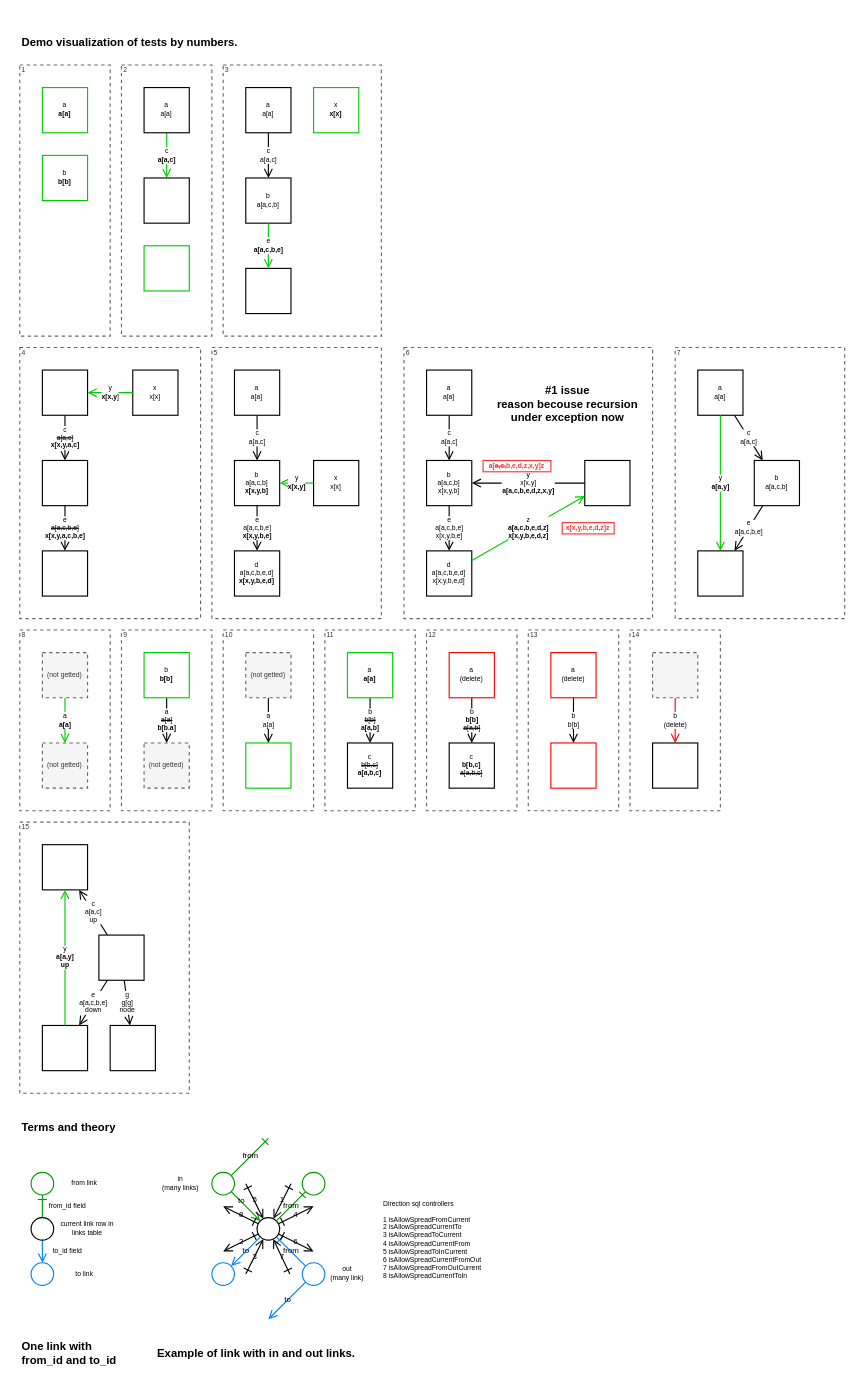
The diagram is 864 pixels wide and 1394 high, and some of its shapes have lost their labels. Each missing label, with the centre of its shape:
"a (not exists)" goes at (674,674).
"a a[a] node" goes at (64,867).
"a a[a] x[x,y,a]" goes at (64,392).
"b a[a,c,b] up" goes at (121,957).
"b a[a,c,b] x[x,y,a,c,b]" goes at (64,482).
"b b[b] a[a,c,b]" goes at (166,200).
"c (delete)" goes at (573,765).
"c c[a,c]" goes at (268,765).
"c c[c] b[b,c] a[a,b,c]" goes at (674,765).
"d a[a,c,b,e,d] a[a,y,d]" goes at (720,573).
"d a[a,c,b,e,d] a[a,y,d] node" goes at (64,1047).
"d a[a,c,b,e,d] x[x,y,a,c,b,e,d]" goes at (64,573).
"d d[d]" goes at (166,268).
"d d[d] a[a,c,b,e,d]" goes at (268,290).
"f f[f] down" goes at (132,1047).
"x x[x] a[a,c,b,e,d,z,x]" goes at (607,482).
